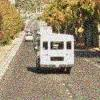buses: (35, 34, 78, 73)
